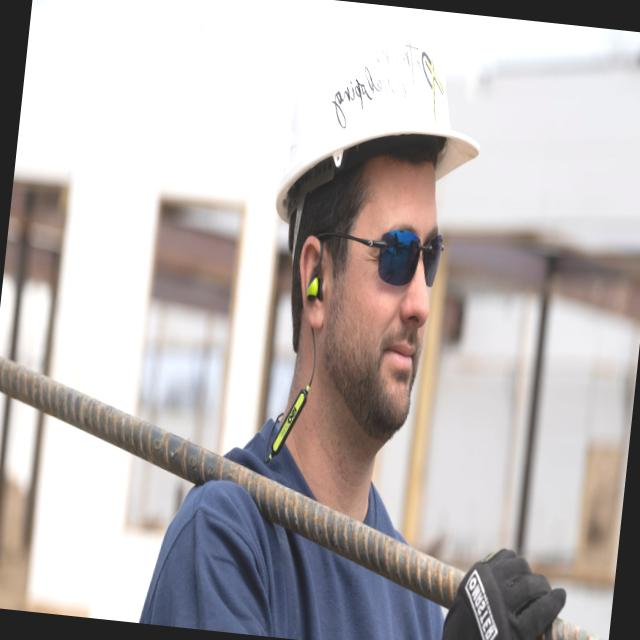helmet: (268, 0, 497, 283)
no-goggles: (318, 220, 454, 295)
no-vest: (109, 420, 467, 640)
